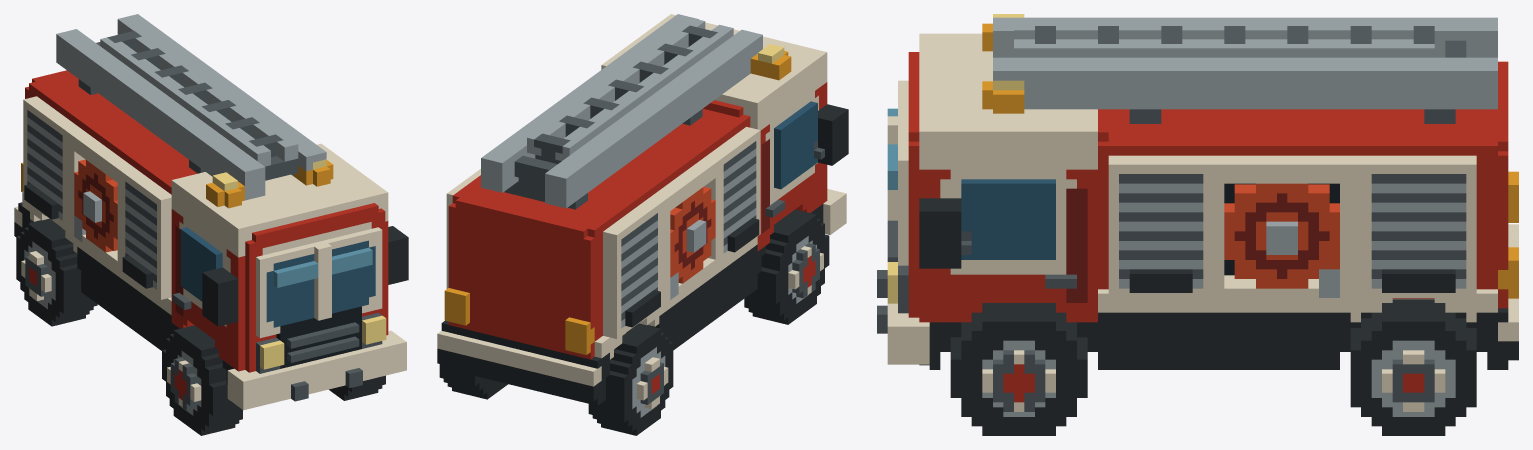
File: fire_engine.glb
3 views of the same model, side by side, from view 1: azimuth 30°, elevation 25°; view 2: azimuth 150°, elevation 25°; view 3: azimuth 270°, elevation 25° (orthographic). The views are drawn at different scales.
Parts seen in each view (by area): view 1: fire_engine; view 2: fire_engine; view 3: fire_engine.
Boxes of the visible parts, bbox=[...] form: fire_engine: bbox=[14, 14, 408, 435]; fire_engine: bbox=[437, 14, 848, 435]; fire_engine: bbox=[877, 14, 1518, 435].
Bounding box in the file's own units: 2.8 × 3.6 × 6.1.
